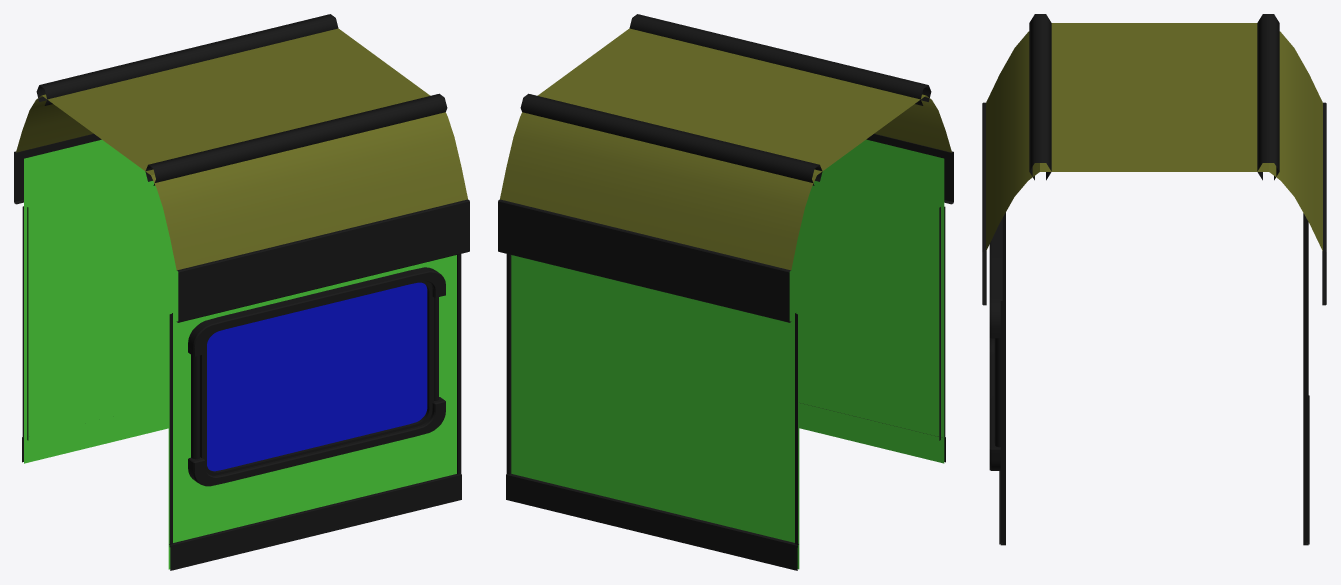
File: Kioste_Centre_Metal_01.FBX
The picture shows the model from 3 angles, left to right: view 1: azimuth 30°, elevation 25°; view 2: azimuth 150°, elevation 25°; view 3: azimuth 270°, elevation 25°; orthographic projection. The views are drawn at different scales.
Visible parts, largest first — view 1: Kioste_Centre_Metal_01_LOD0; view 2: Kioste_Centre_Metal_01_LOD0; view 3: Kioste_Centre_Metal_01_LOD0.
Part boxes in pixels (bbox=[...]): Kioste_Centre_Metal_01_LOD0: bbox=[14, 14, 469, 570]; Kioste_Centre_Metal_01_LOD0: bbox=[498, 14, 953, 570]; Kioste_Centre_Metal_01_LOD0: bbox=[982, 14, 1326, 545].
Bounding box in the file's own units: 400 × 511 × 391.
